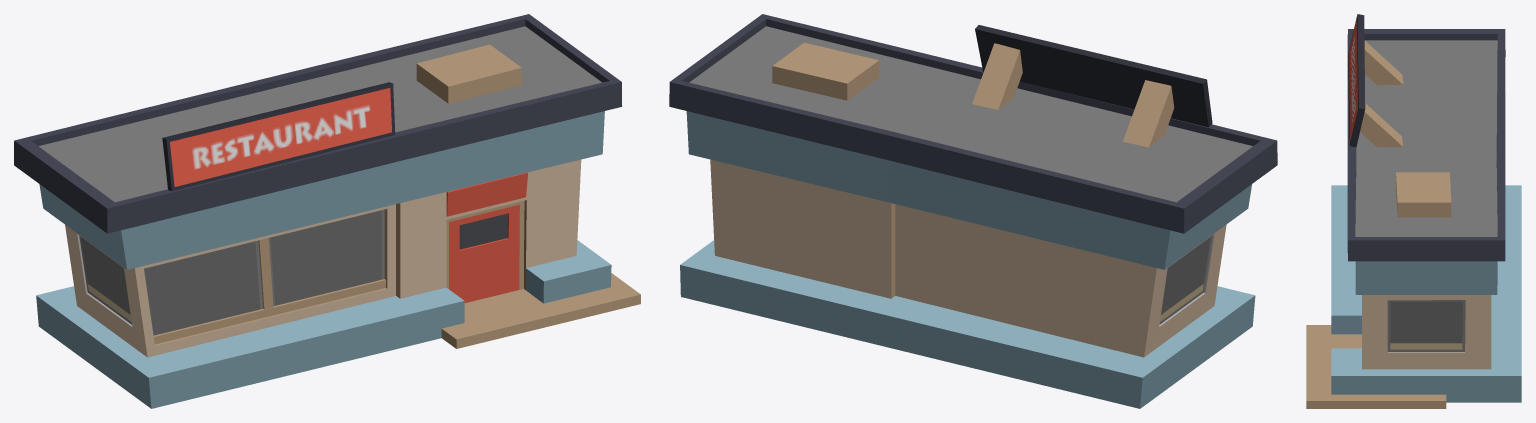
Rendered from restaurant01_color02.fbx.
3 renders of one model, left to right at view 1: azimuth 30°, elevation 25°; view 2: azimuth 150°, elevation 25°; view 3: azimuth 270°, elevation 25°, orthographic. The views are drawn at different scales.
Parts seen in each view (by area): view 1: restaurant01_color02; view 2: restaurant01_color02; view 3: restaurant01_color02.
Boxes of the visible parts, x1,y1,x2,y2 form: restaurant01_color02: [14, 14, 640, 408]; restaurant01_color02: [669, 14, 1277, 408]; restaurant01_color02: [1306, 14, 1521, 408].
Bounding box in the file's own units: 1598 × 745 × 686.
